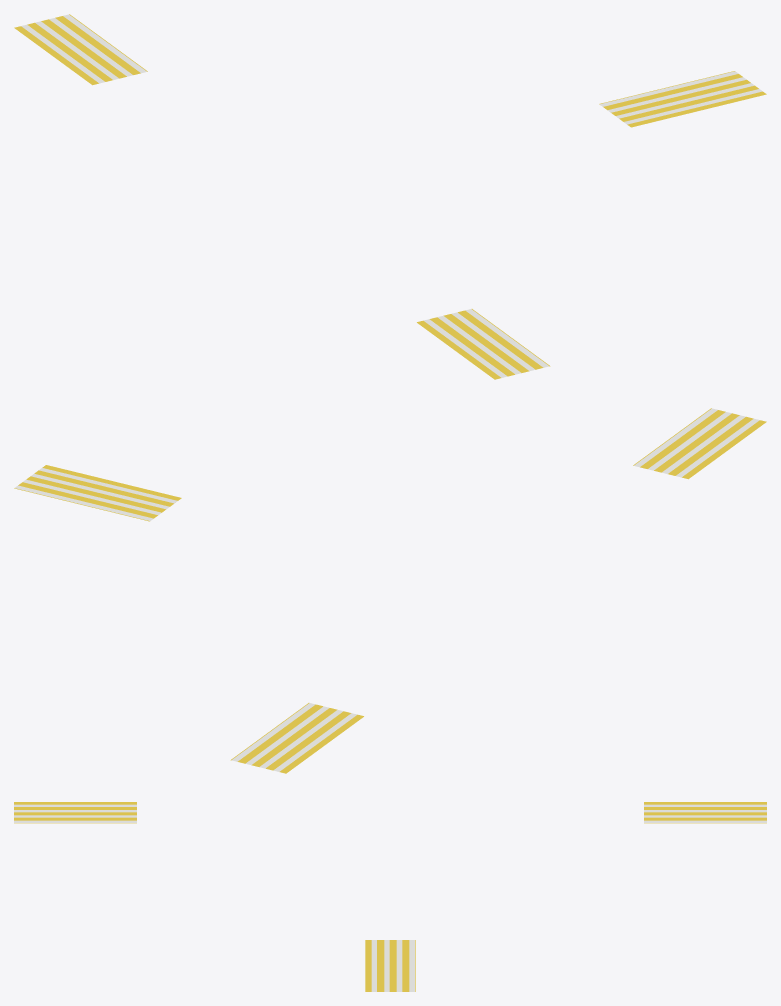
Rendered from cidade_S04_04.gltf.
3 views of the same model, one above another, from view 1: azimuth 30°, elevation 25°; view 2: azimuth 150°, elevation 25°; view 3: azimuth 270°, elevation 25° (orthographic). The views are drawn at different scales.
Visible parts, largest first — view 1: S04_04_Estatico; view 2: S04_04_Estatico; view 3: S04_04_Estatico.
Part boxes in pixels (bbox=[...]): S04_04_Estatico: bbox=[14, 14, 766, 379]; S04_04_Estatico: bbox=[14, 408, 766, 773]; S04_04_Estatico: bbox=[14, 802, 766, 991].
Bounding box in the file's own units: 28.5 × 0.001 × 47.8.
